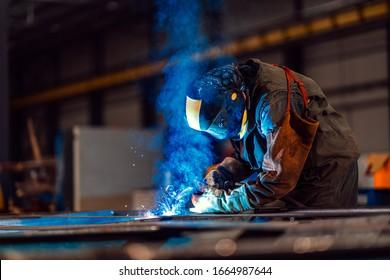gloves: (190, 182, 255, 214), (202, 155, 248, 187)
